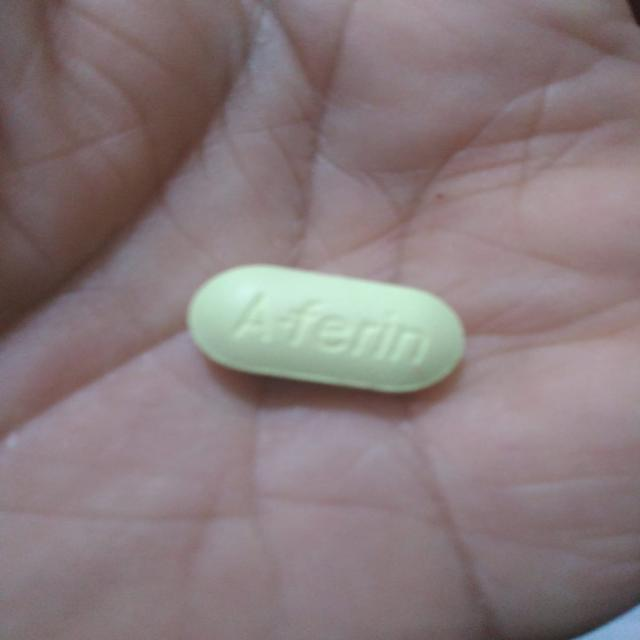pills: (174, 250, 482, 408)
